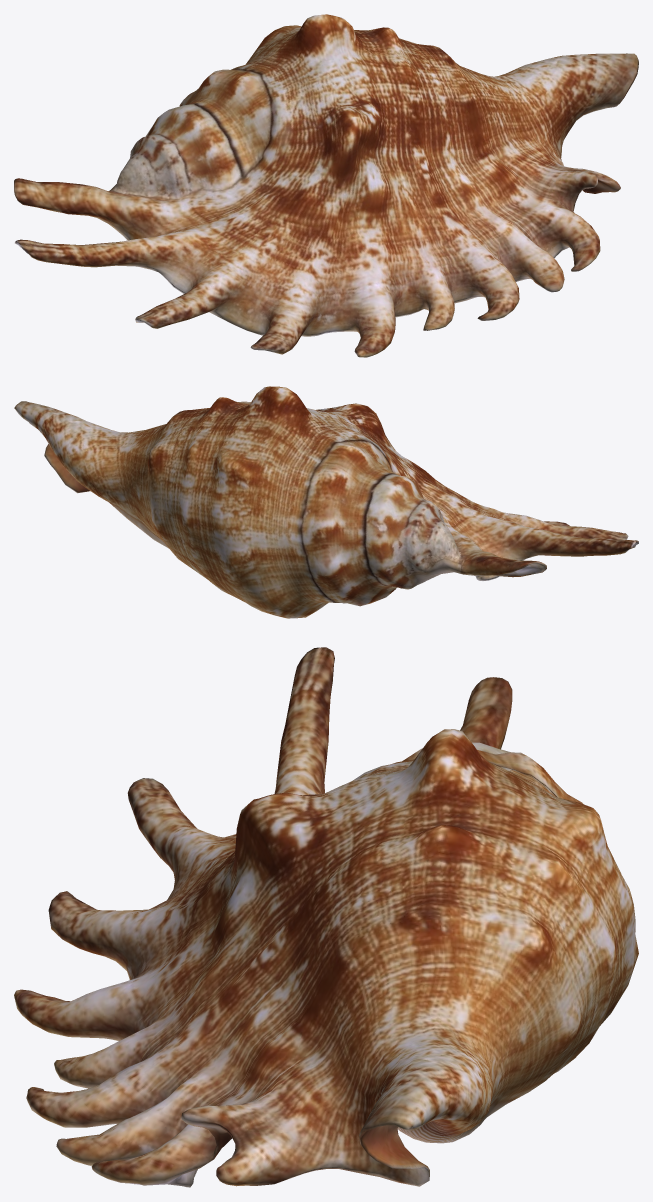
Rendered from lambis_shell.glb.
3 views of the same model, one above another, from view 1: azimuth 30°, elevation 25°; view 2: azimuth 150°, elevation 25°; view 3: azimuth 270°, elevation 25° (orthographic). The views are drawn at different scales.
Parts seen in each view (by area): view 1: lambis_shell_mesh; view 2: lambis_shell_mesh; view 3: lambis_shell_mesh.
Part boxes in pixels (x1,y1,x2,y2): lambis_shell_mesh: [14, 14, 638, 357]; lambis_shell_mesh: [14, 386, 638, 618]; lambis_shell_mesh: [14, 647, 638, 1187].
Bounding box in the file's own units: 0.1395 × 0.0465 × 0.0745.
1 material, 1 textured.
